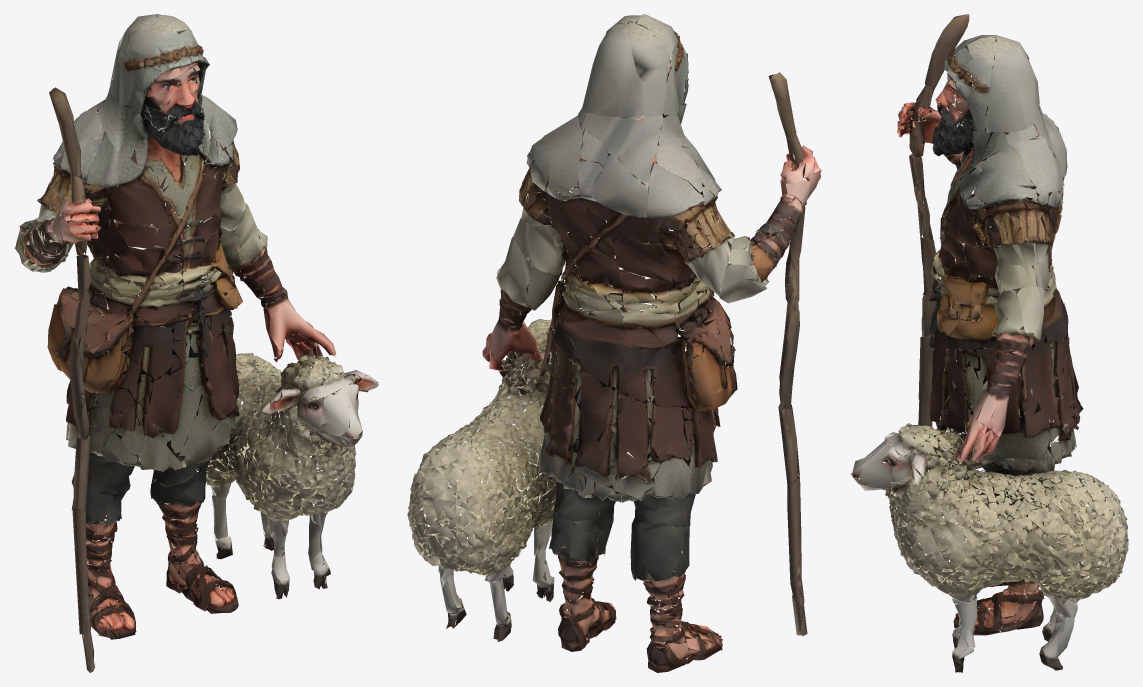
File: b117_coban_ve_koyun_heykel.glb
3 views of the same model, side by side, from view 1: azimuth 30°, elevation 25°; view 2: azimuth 150°, elevation 25°; view 3: azimuth 270°, elevation 25° (orthographic). The views are drawn at different scales.
Parts seen in each view (by area): view 1: Mesh_0; view 2: Mesh_0; view 3: Mesh_0.
Part boxes in pixels (x1,y1,x2,y2): Mesh_0: (14, 14, 378, 672); Mesh_0: (407, 14, 821, 672); Mesh_0: (850, 14, 1128, 672).
Size of the model in its own units: 1.06 by 1.91 by 0.8486.
1 material, 1 textured.
